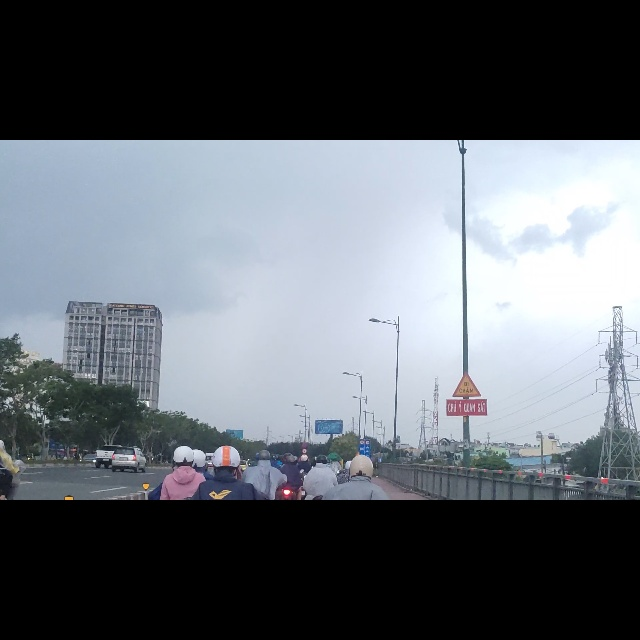bien_cam: (451, 409, 483, 458)
